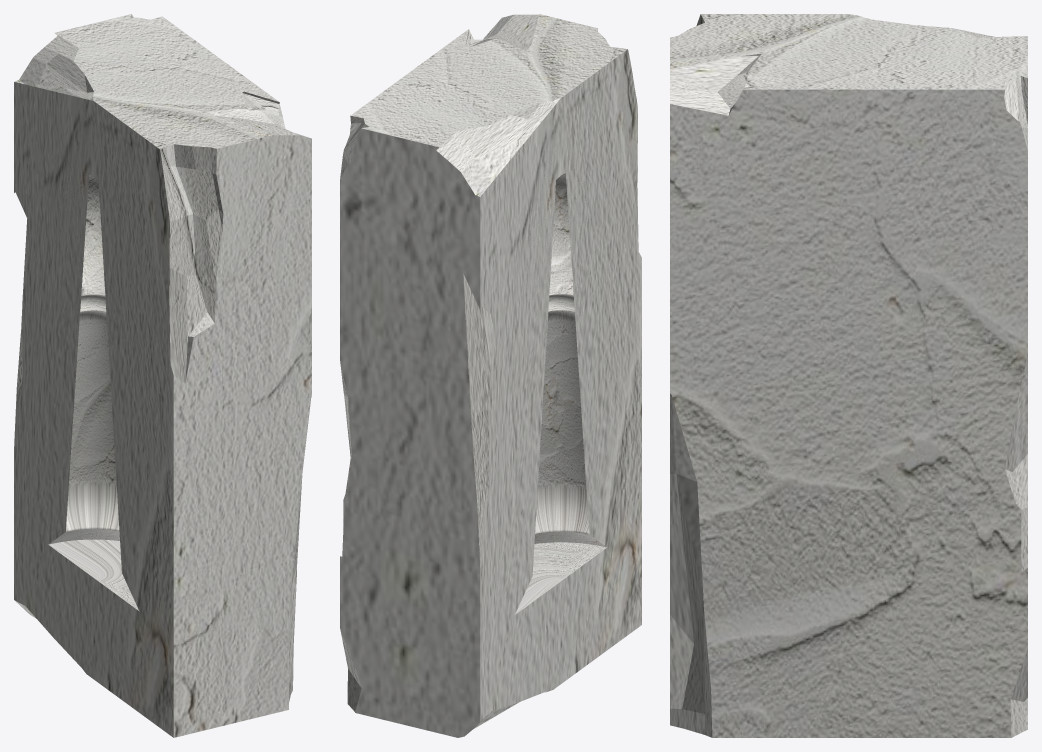
File: mold2.fbx
3 views of the same model, side by side, from view 1: azimuth 30°, elevation 25°; view 2: azimuth 150°, elevation 25°; view 3: azimuth 270°, elevation 25° (orthographic). The views are drawn at different scales.
Visible parts, largest first — view 1: mold_ani_2; view 2: mold_ani_2; view 3: mold_ani_2.
Part boxes in pixels (x1=…): mold_ani_2: x1=14, y1=14, x2=311, y2=737; mold_ani_2: x1=340, y1=14, x2=641, y2=737; mold_ani_2: x1=670, y1=14, x2=1027, y2=737.
Size of the model in its own units: 10 by 40 by 20.
Materials: 1 (1 with a texture image).
